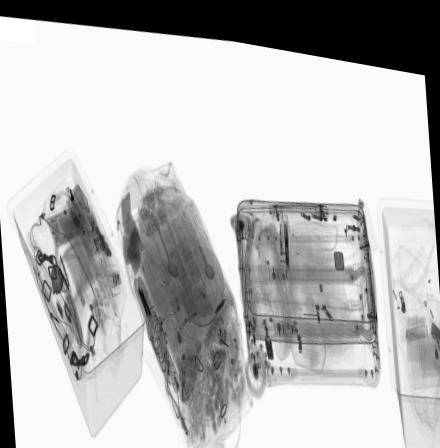Lighter: (74, 276, 86, 304)
